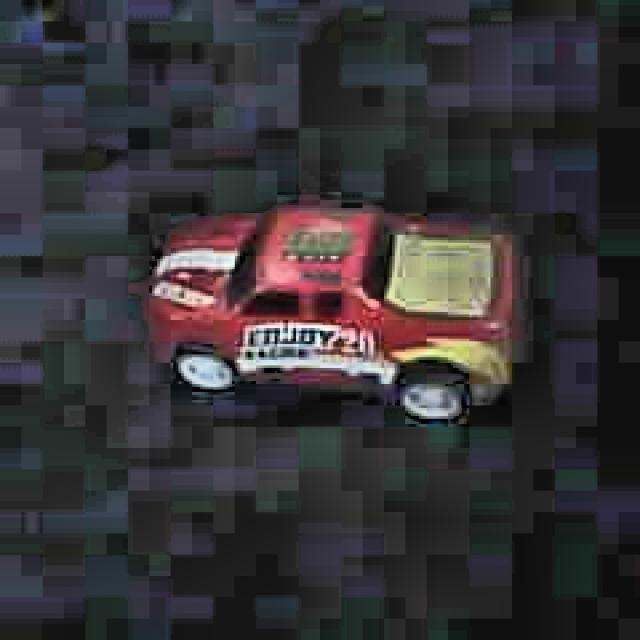car: (141, 193, 527, 442)
